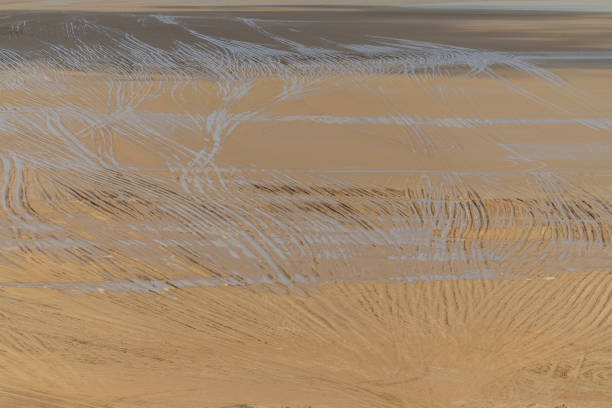vehicle_track: (174, 46, 407, 373), (407, 44, 611, 360)
